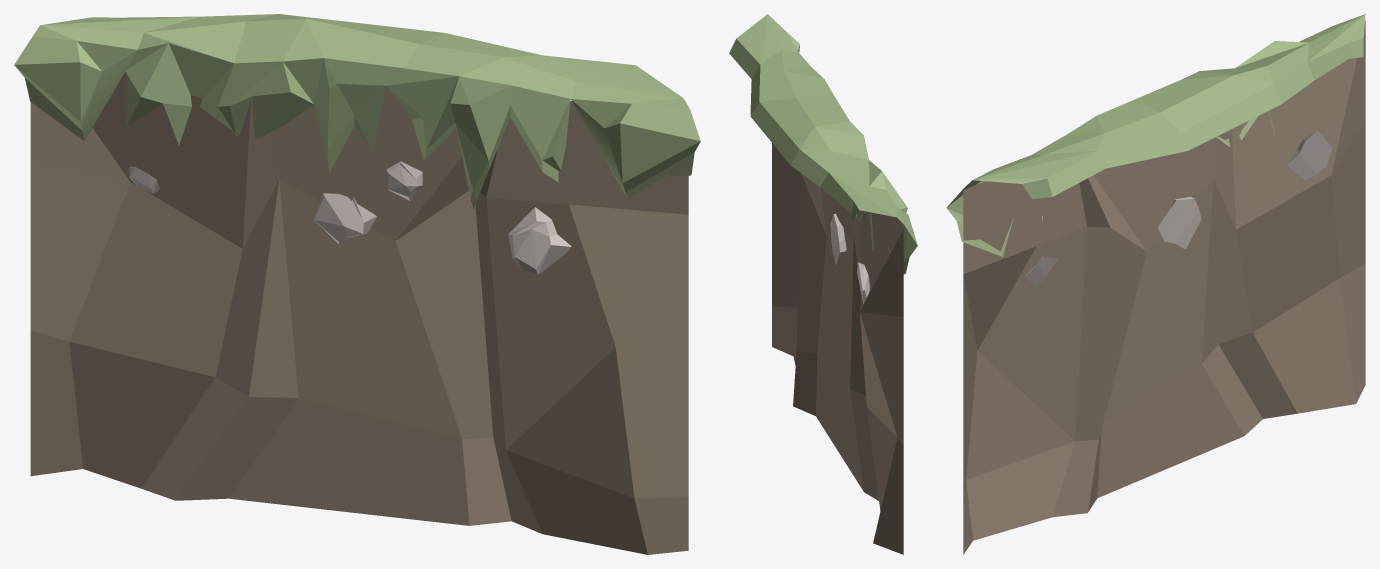
File: ER_Terrain_1x1_GrassDiagonal_001_B1.fbx
The picture shows the model from 3 angles, left to right: view 1: azimuth 30°, elevation 25°; view 2: azimuth 150°, elevation 25°; view 3: azimuth 270°, elevation 25°; orthographic projection. The views are drawn at different scales.
Parts seen in each view (by area): view 1: ER_Terrain_1x1_GrassDiagonal_001_B1; view 2: ER_Terrain_1x1_GrassDiagonal_001_B1; view 3: ER_Terrain_1x1_GrassDiagonal_001_B1.
Boxes of the visible parts, box(x1,y1,x2,y2) form: ER_Terrain_1x1_GrassDiagonal_001_B1: box(14, 14, 700, 554); ER_Terrain_1x1_GrassDiagonal_001_B1: box(729, 14, 917, 554); ER_Terrain_1x1_GrassDiagonal_001_B1: box(946, 14, 1365, 554).
Size of the model in its own units: 1.05 by 1.07 by 1.04.
